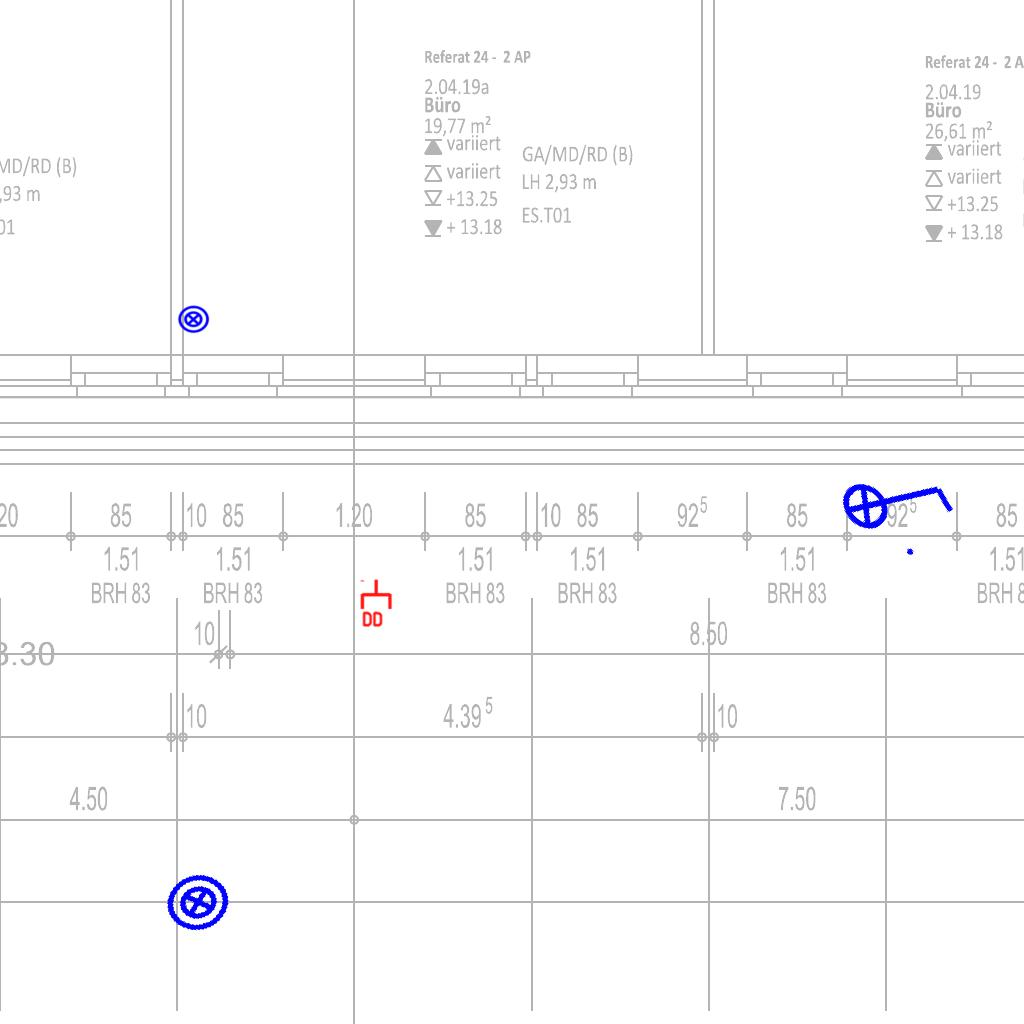Ausschalter_beleuchtet: (822, 426, 970, 574)
Datenanschluss_zweifach: (360, 578, 394, 629)
Taster_beleuchtet: (157, 861, 239, 943), (177, 303, 210, 336)
